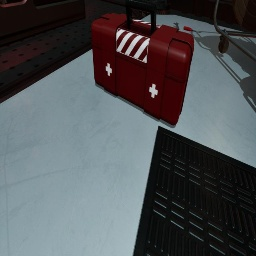FirstAidBox ,: (91, 0, 194, 126)
